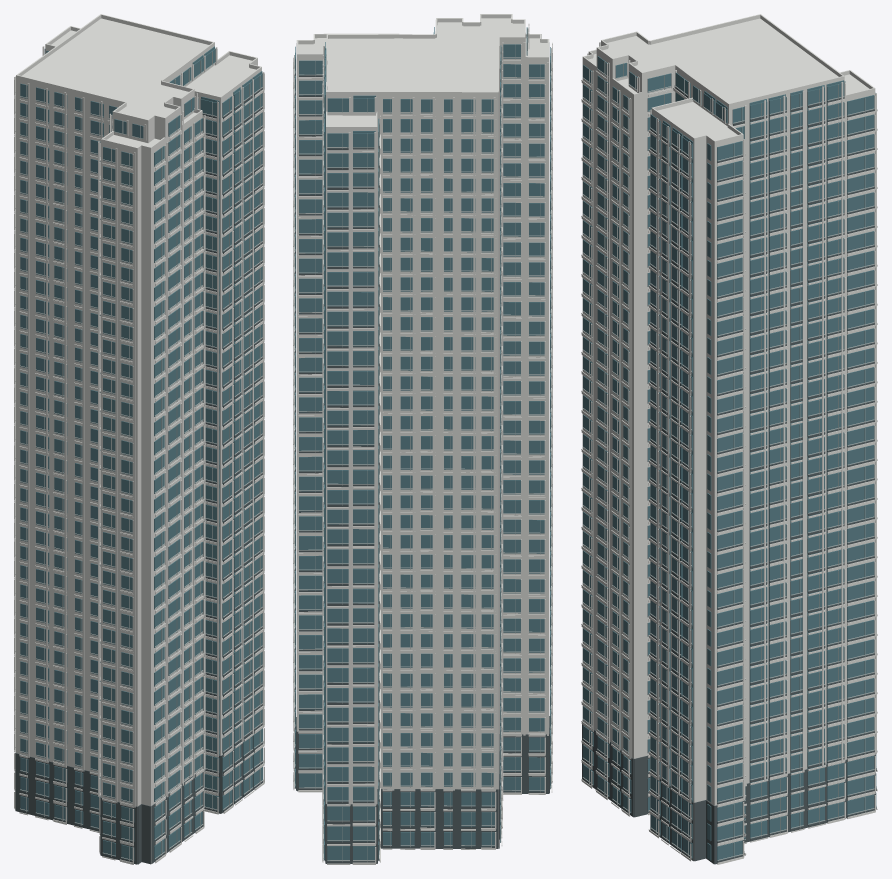
Rendered from bespoke-acro-riverpark-114.glb.
3 views of the same model, side by side, from view 1: azimuth 30°, elevation 25°; view 2: azimuth 150°, elevation 25°; view 3: azimuth 270°, elevation 25° (orthographic). The views are drawn at different scales.
Visible parts, largest first — view 1: 114_R04_body, 114_R04_glass, 114_R01_glass, 114_R03_body, 114_R04_white, 114_R03_glass, 114_R03_white, 114_R01_white, 114_R00_glass, 114_R04_frame, 114_R01_frame, 114_R00_white (+8 smaller); view 2: 114_R04_body, 114_R04_glass, 114_R04_white, 114_R02_glass, 114_R01_glass, 114_R02_white, 114_R04_frame, 114_R03_glass, 114_R02_body, 114_R03_body, 114_R03_white, 114_R02_dark (+8 smaller); view 3: 114_R04_glass, 114_R01_glass, 114_R04_body, 114_R04_white, 114_R01_body, 114_R01_white, 114_R02_glass, 114_R00_body, 114_R04_dark, 114_R04_frame, 114_R01_dark, 114_R00_glass (+12 smaller).
Part boxes in pixels (x1,y1,x2,y2): 114_R04_body: (16,18,214,793); 114_R04_glass: (20,46,215,849); 114_R01_glass: (194,71,262,811); 114_R03_body: (101,135,165,863); 114_R04_white: (14,14,217,852); 114_R03_glass: (103,146,164,860); 114_R03_white: (98,131,168,864); 114_R01_white: (194,51,264,814); 114_R00_glass: (183,118,202,838); 114_R04_frame: (15,51,215,848); 114_R01_frame: (202,75,263,810); 114_R00_white: (182,108,205,841); 114_R04_body: (326,18,525,847); 114_R04_glass: (324,27,527,846); 114_R04_white: (322,14,529,849); 114_R02_glass: (324,118,379,860); 114_R01_glass: (295,46,322,787); 114_R02_white: (322,111,380,864); 114_R04_frame: (323,28,528,847); 114_R03_glass: (529,47,550,791); 114_R02_body: (326,115,377,804); 114_R03_body: (525,38,549,734); 114_R03_white: (525,34,552,794); 114_R02_dark: (323,146,379,863); 114_R04_glass: (597,56,845,840); 114_R01_glass: (650,114,742,861); 114_R04_body: (596,18,844,783); 114_R04_white: (595,14,845,843); 114_R01_body: (651,102,743,860); 114_R01_white: (648,97,746,864); 114_R02_glass: (847,93,876,815); 114_R00_body: (612,78,641,758); 114_R04_dark: (596,86,844,842); 114_R04_frame: (597,61,844,839); 114_R01_dark: (650,128,744,864); 114_R00_glass: (612,86,631,813).
Bounding box in the file's own units: 41.7 × 132 × 47.79.
